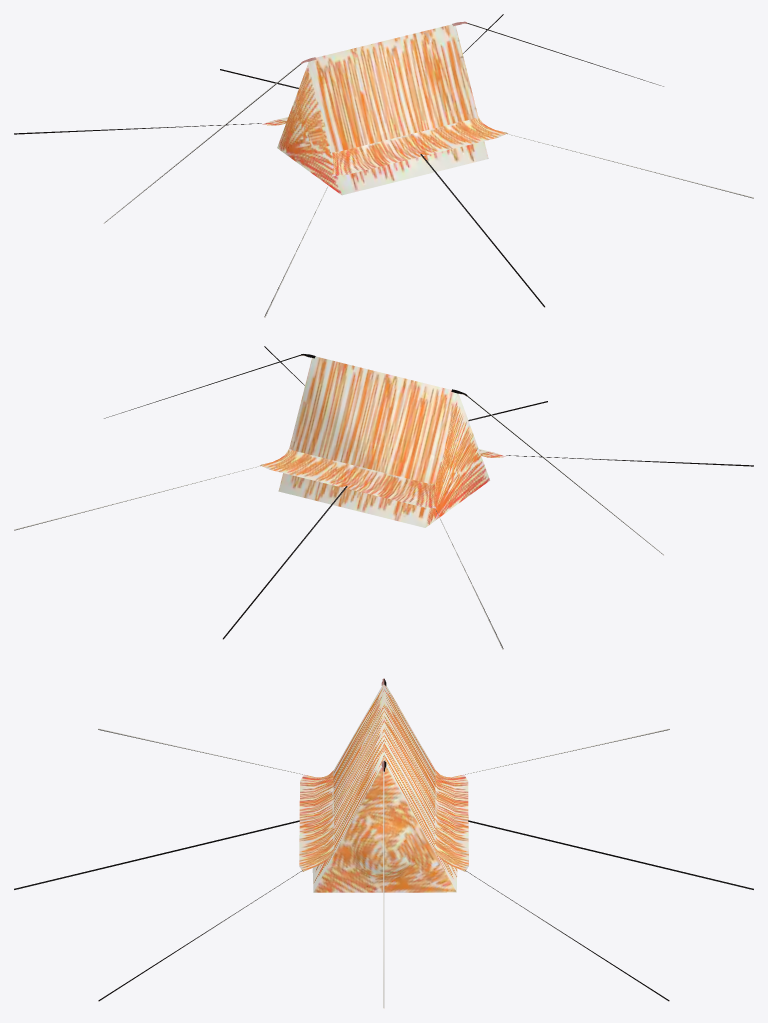
The model's file is tent2_1953.glb.
The picture shows the model from 3 angles, top to bottom: view 1: azimuth 30°, elevation 25°; view 2: azimuth 150°, elevation 25°; view 3: azimuth 270°, elevation 25°; orthographic projection. The views are drawn at different scales.
Parts seen in each view (by area): view 1: TENT.1.R; view 2: TENT.1.R; view 3: TENT.1.R.
Boxes of the visible parts, left/top/right/bottom form: TENT.1.R: left=14, top=14, right=753, bottom=317; TENT.1.R: left=14, top=346, right=753, bottom=649; TENT.1.R: left=14, top=678, right=753, bottom=1008.
Bounding box in the file's own units: 13.39 × 3.38 × 13.43.
Materials: 1 (1 with a texture image).
